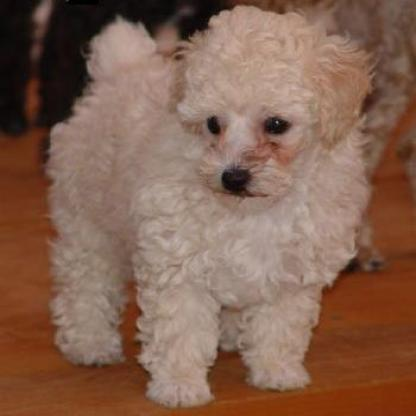miniature_poodle: (52, 7, 414, 414)
